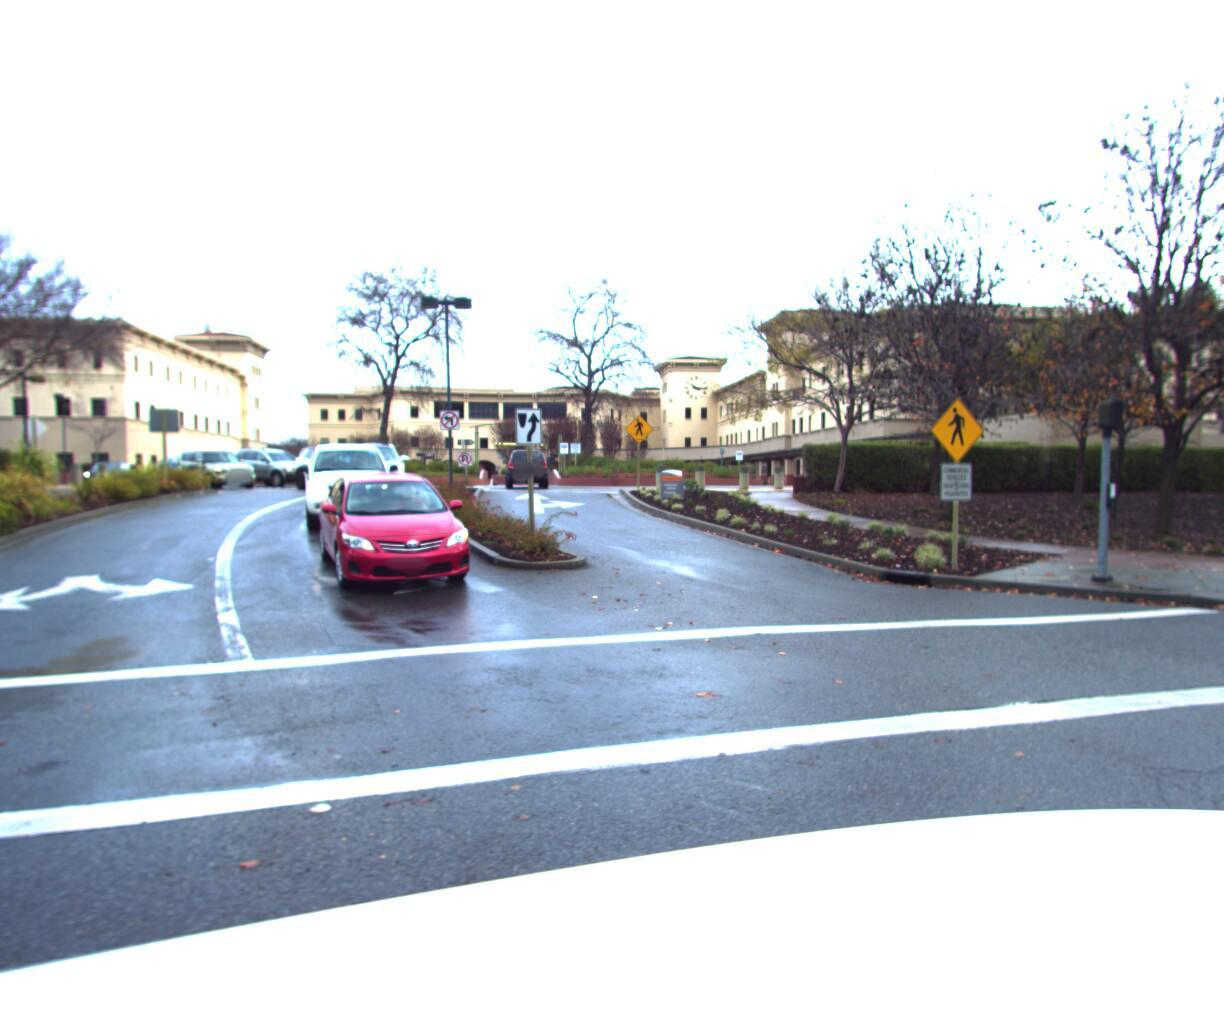car: (305, 470, 490, 599), (296, 441, 411, 534), (328, 445, 415, 504), (289, 449, 397, 494), (178, 449, 276, 492), (227, 451, 328, 489)
